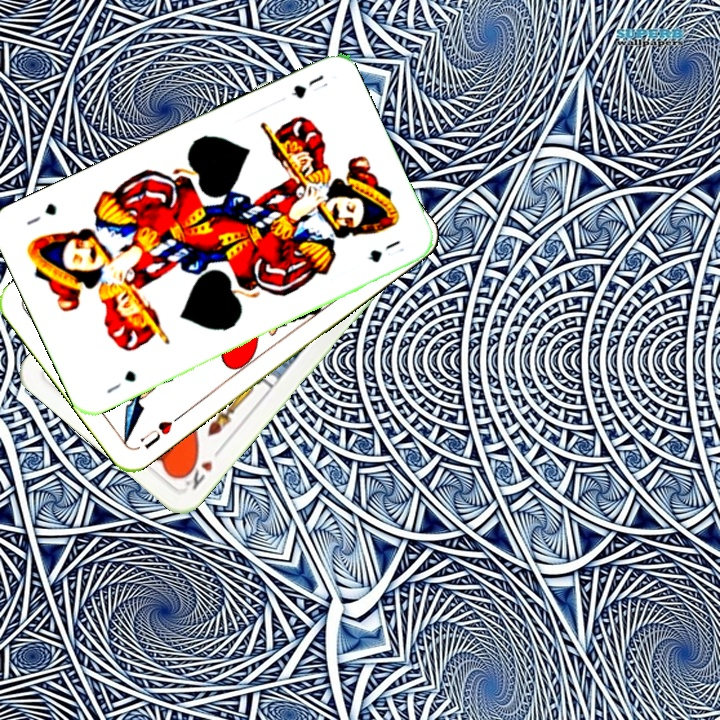GU: (287, 70, 331, 102), (102, 366, 139, 396)
HK: (177, 443, 226, 493)
HU: (136, 411, 184, 451)
